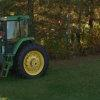Tractor: (1, 9, 55, 84)
